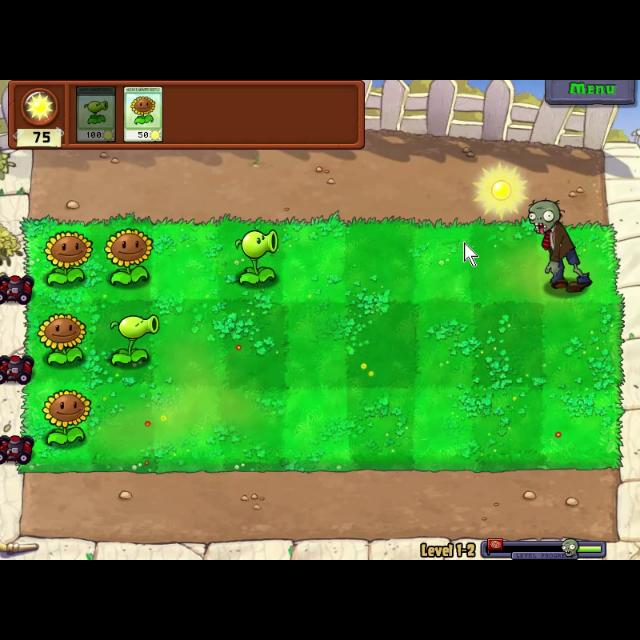Garden: (18, 216, 624, 474)
Menu Button: (540, 80, 640, 104)
Mower: (0, 350, 34, 386), (0, 429, 32, 465), (1, 273, 36, 305)
Peashooter: (74, 84, 118, 144)
Peashooter Seed: (105, 306, 159, 372), (229, 228, 281, 288)
Seed Panel: (6, 80, 366, 152)
Sun: (471, 159, 533, 227)
Sunflower: (123, 83, 163, 145)
Sunflower Seed: (39, 386, 95, 452), (103, 227, 155, 287), (36, 312, 90, 368), (42, 230, 92, 286)
Zombie: (526, 198, 594, 292)
